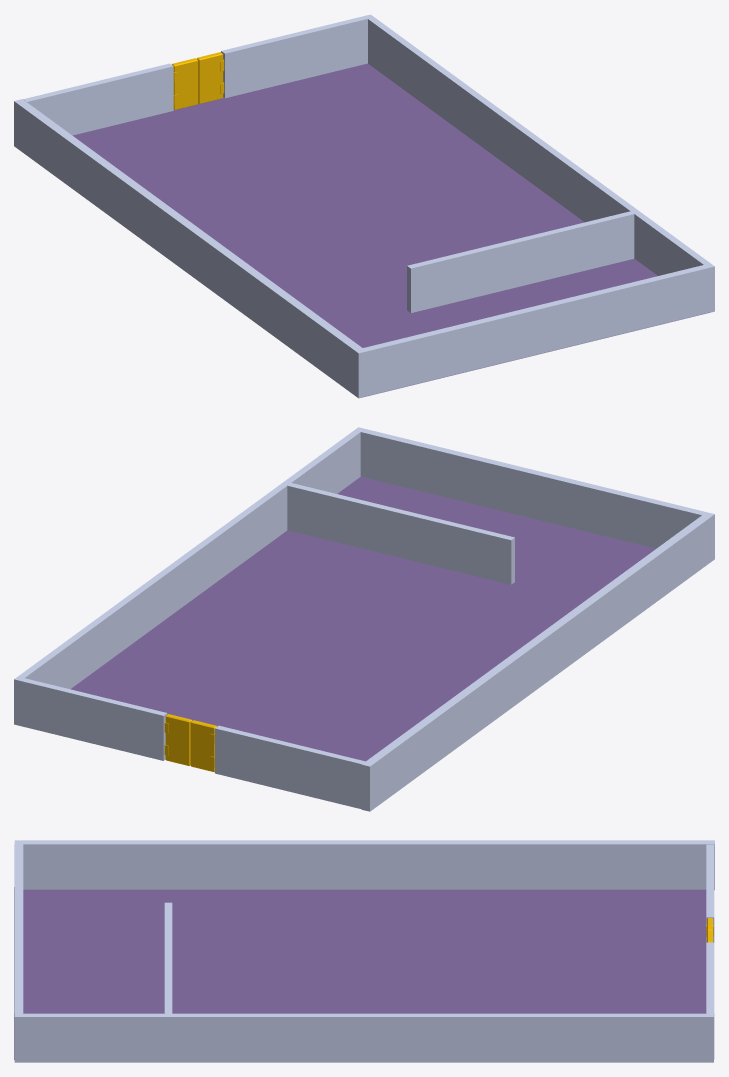
The model's file is maps36.fbx.
3 views of the same model, one above another, from view 1: azimuth 30°, elevation 25°; view 2: azimuth 150°, elevation 25°; view 3: azimuth 270°, elevation 25° (orthographic).
Visible parts, largest first — view 1: wall_01_08_geo, wall_01_07_geo, wall_01_05_geo, wall_01_06_geo, wall_01_09_geo9, wall_01_09_geo10, wall_01_09_geo, polySurface165, polySurface161; view 2: wall_01_08_geo, wall_01_07_geo, wall_01_05_geo, wall_01_06_geo, wall_01_09_geo9, wall_01_09_geo, wall_01_09_geo10, polySurface165, polySurface161; view 3: wall_01_08_geo, wall_01_06_geo, wall_01_07_geo, wall_01_05_geo, wall_01_09_geo9, wall_01_09_geo, wall_01_09_geo10.
Boxes of the visible parts, bbox=[...] form: wall_01_08_geo: bbox=[72, 63, 709, 397]; wall_01_07_geo: bbox=[14, 99, 367, 398]; wall_01_05_geo: bbox=[363, 265, 708, 396]; wall_01_06_geo: bbox=[364, 14, 714, 312]; wall_01_09_geo9: bbox=[407, 211, 634, 312]; wall_01_09_geo10: bbox=[221, 16, 367, 98]; wall_01_09_geo: bbox=[23, 63, 173, 135]; polySurface165: bbox=[196, 52, 224, 103]; polySurface161: bbox=[172, 58, 198, 109]; wall_01_08_geo: bbox=[71, 476, 655, 761]; wall_01_07_geo: bbox=[361, 512, 714, 811]; wall_01_05_geo: bbox=[360, 429, 705, 548]; wall_01_06_geo: bbox=[14, 427, 364, 725]; wall_01_09_geo9: bbox=[287, 483, 514, 584]; wall_01_09_geo: bbox=[215, 725, 365, 809]; wall_01_09_geo10: bbox=[20, 678, 167, 760]; polySurface165: bbox=[164, 714, 191, 765]; polySurface161: bbox=[190, 720, 216, 772]; wall_01_08_geo: bbox=[14, 887, 706, 1059]; wall_01_06_geo: bbox=[14, 1013, 713, 1062]; wall_01_07_geo: bbox=[14, 840, 714, 890]; wall_01_05_geo: bbox=[14, 844, 23, 1058]; wall_01_09_geo9: bbox=[164, 902, 172, 1013]; wall_01_09_geo: bbox=[706, 844, 714, 942]; wall_01_09_geo10: bbox=[706, 942, 714, 1059].
Bounding box in the file's own units: 73.34 × 8.89 × 123.
Materials: 2 (2 with a texture image).
